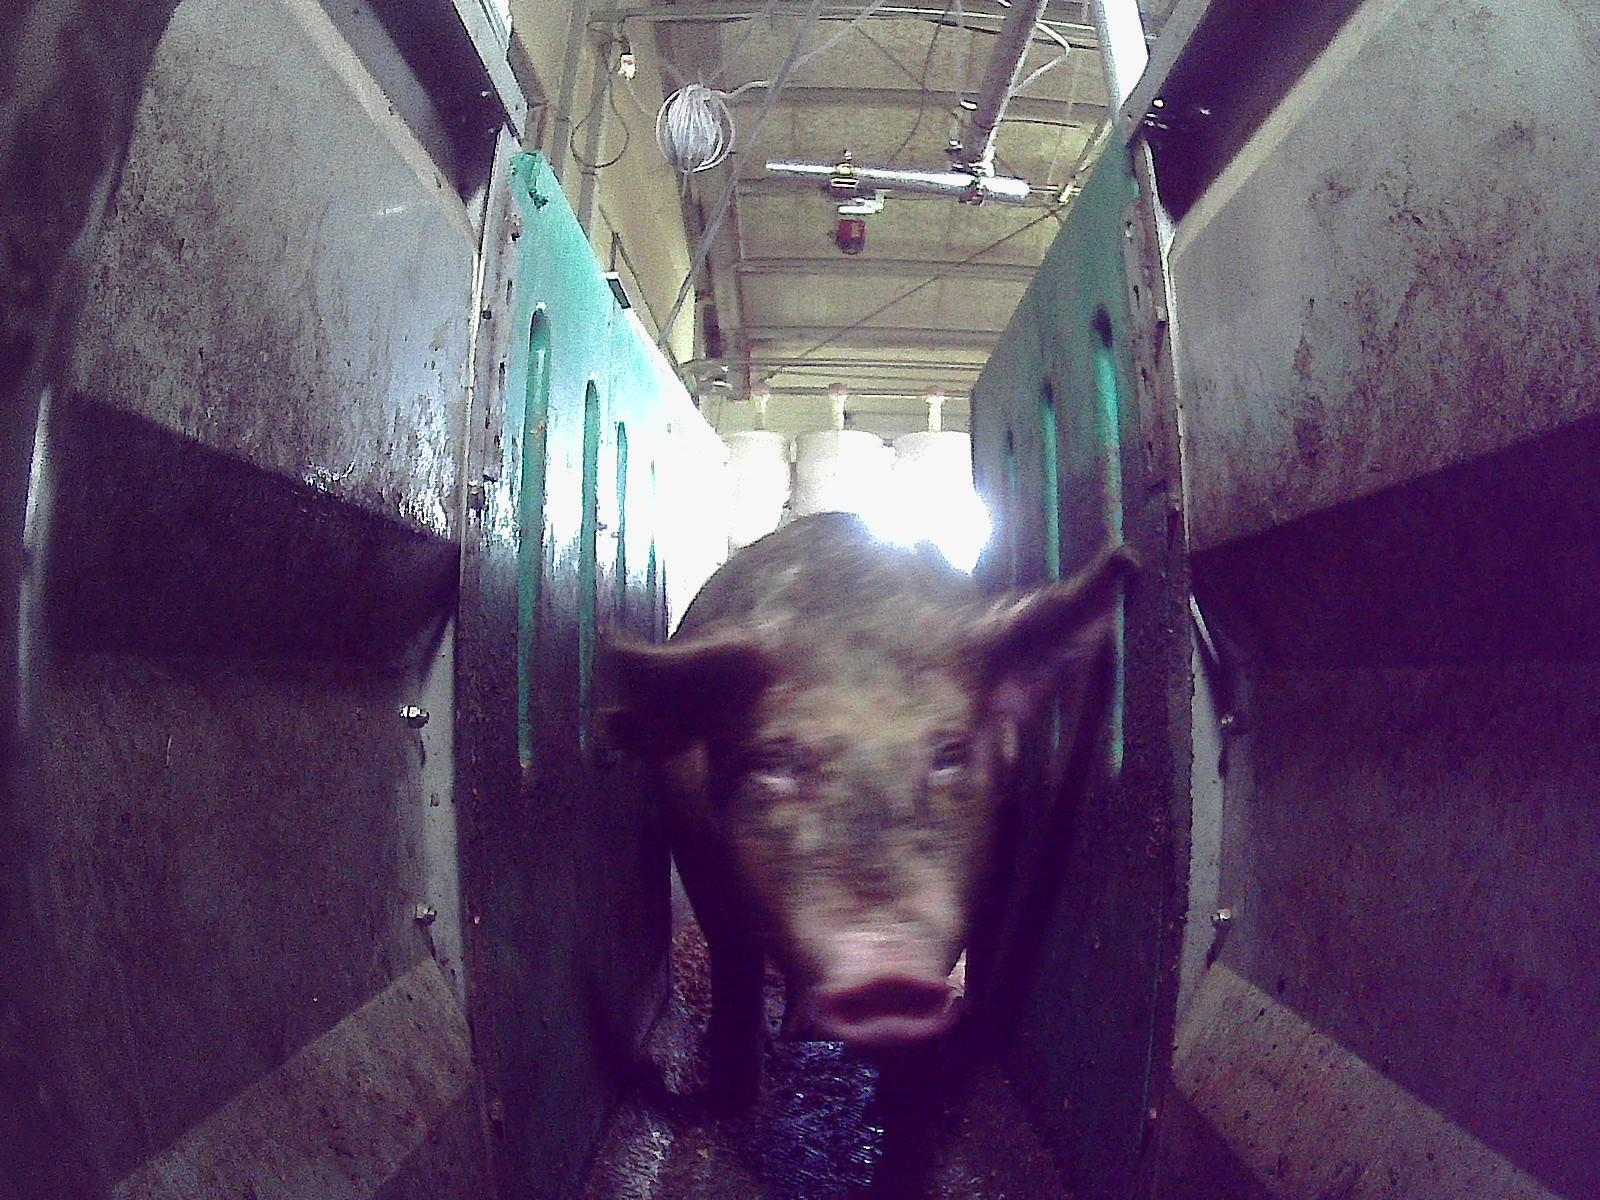Face: (701, 634, 991, 1032)
